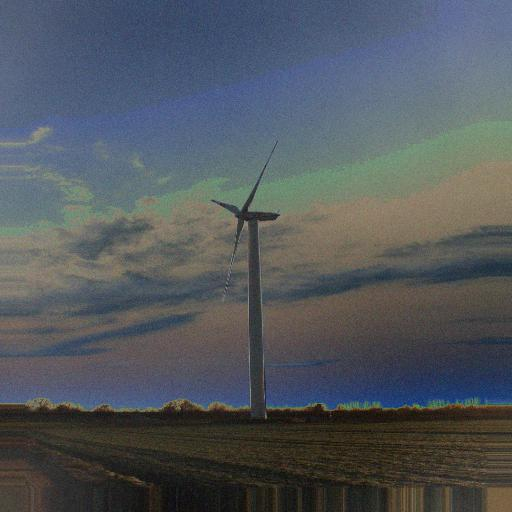wind turbine: (211, 139, 282, 423)
